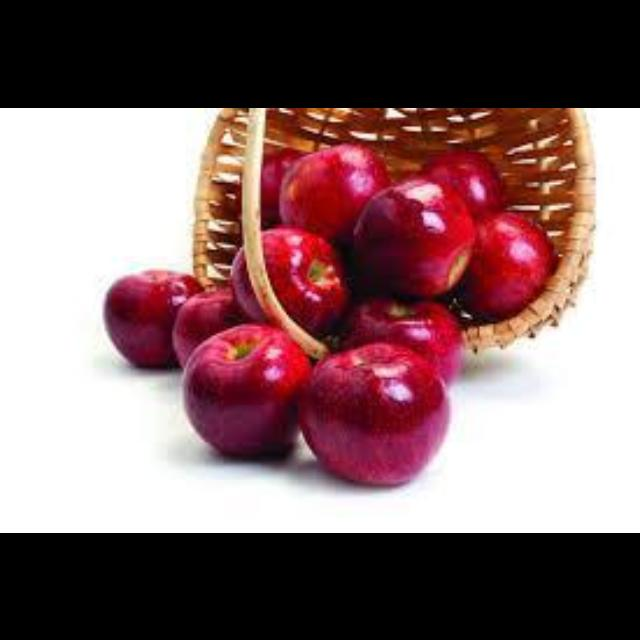apple: (298, 342, 449, 484), (184, 323, 310, 456), (349, 174, 475, 296), (279, 144, 389, 244), (456, 209, 556, 319), (342, 298, 461, 382), (261, 226, 347, 337), (102, 270, 200, 365), (172, 286, 244, 365), (419, 149, 503, 216), (230, 244, 277, 323), (261, 149, 300, 226)
